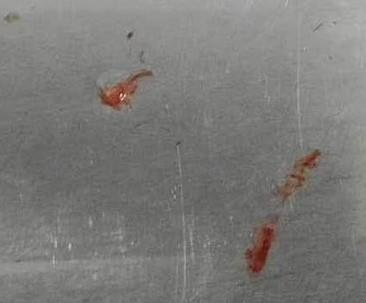Infectious: (95, 66, 153, 111)
Pathological: (0, 0, 365, 302)
Sharps: (242, 146, 322, 275)
